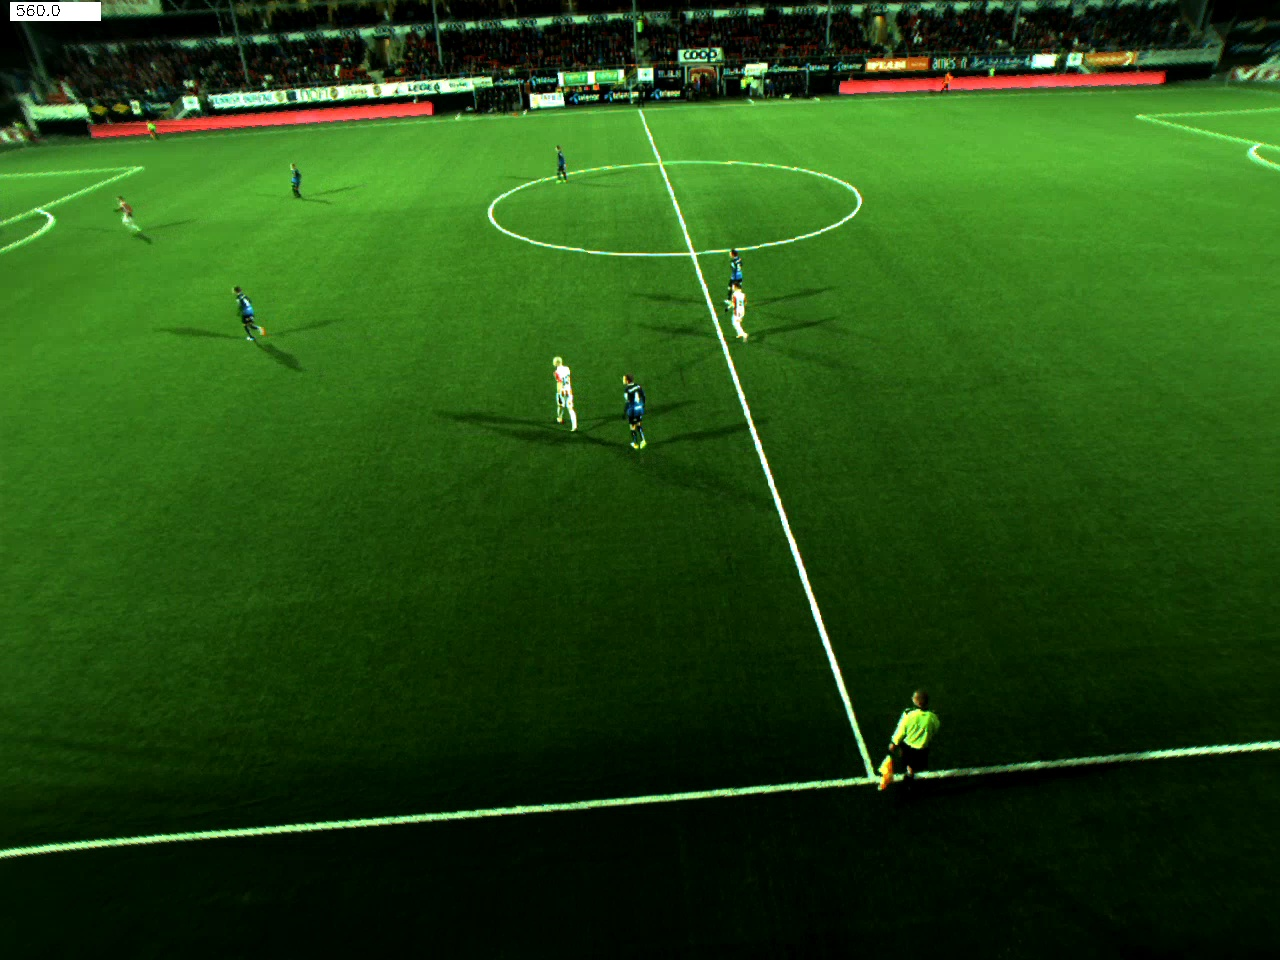blue: (614, 375, 656, 456), (228, 282, 274, 337), (723, 248, 756, 291), (545, 145, 574, 189), (285, 159, 312, 199)
red: (548, 346, 584, 439), (109, 191, 144, 241), (730, 278, 753, 342)
yellow: (874, 685, 938, 795), (142, 119, 163, 139)
